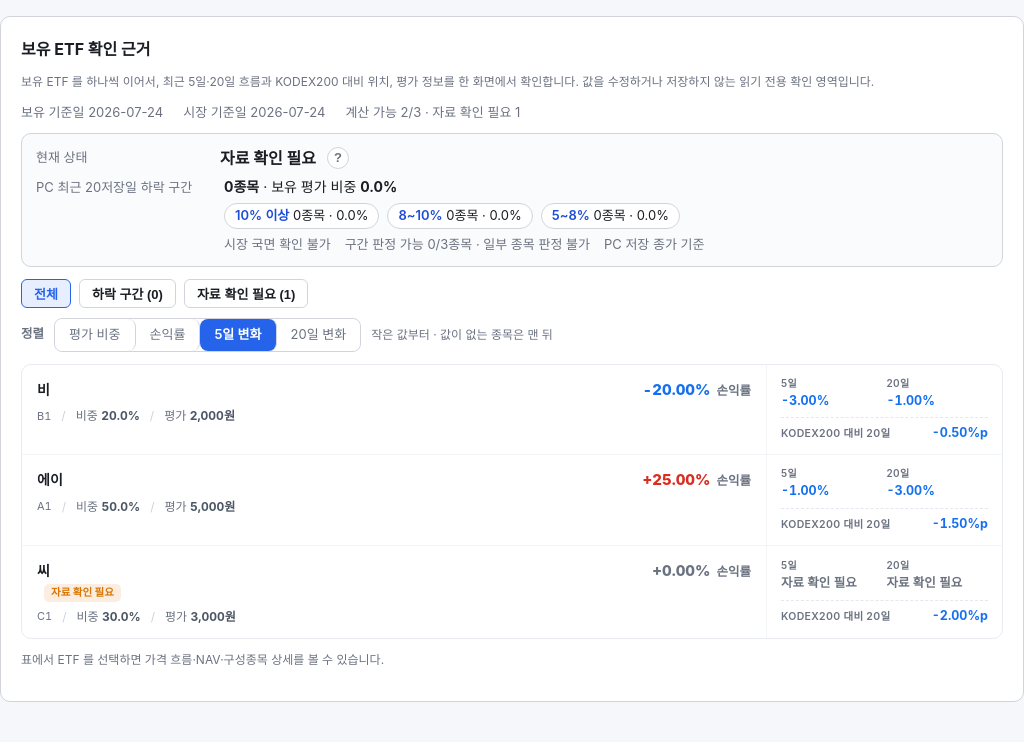
확인 근거 — 사용자 선택 정렬 · 자료 확인 안내 · 전체 ETF NAV 이동 (POC5-UI-02) › 선택 종목의 evidence_notes 를 그 종목 상세에만 보인다(다른 종목 사유 섞임 없음)
Click the button with aria-label "에이 상세 보기": {"x": 677, "y": 480} x1=22 y1=455 x2=1002 y2=546
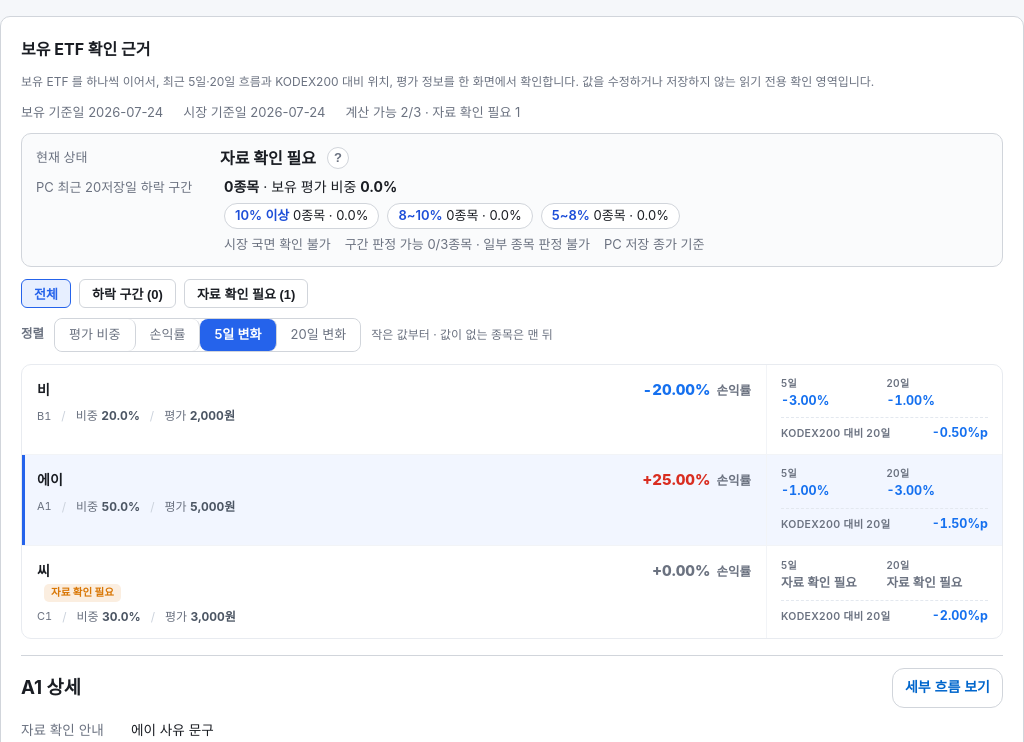
Click the button with aria-label "씨 상세 보기": {"x": 82, "y": 593} x1=22 y1=546 x2=1002 y2=638
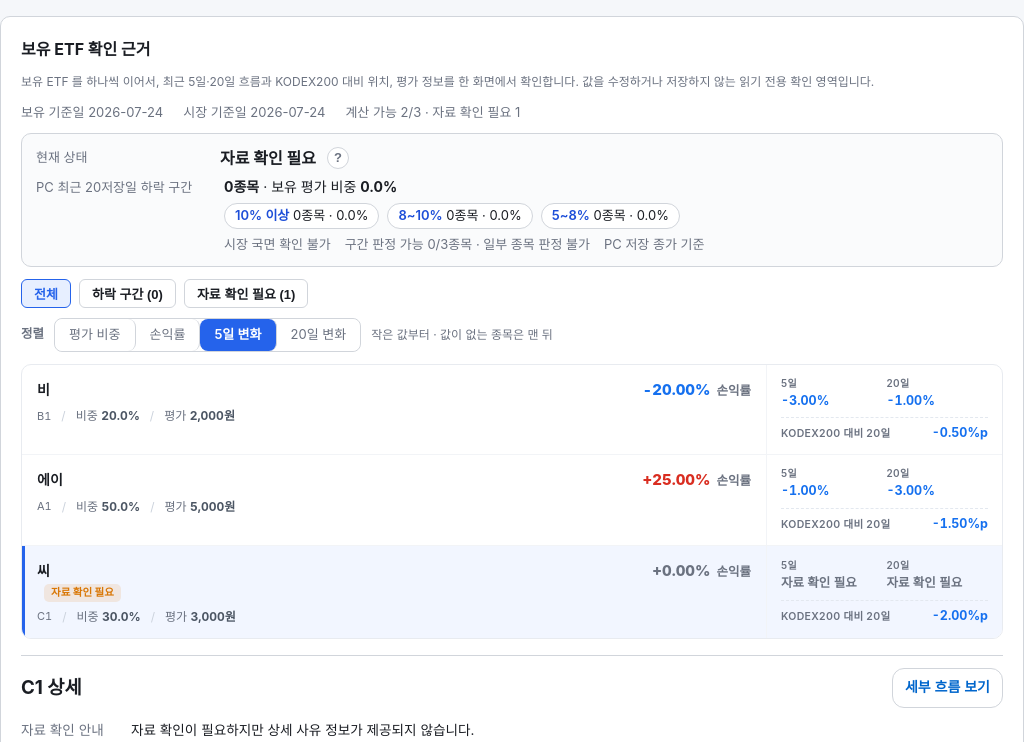
Check: the element with test id "hre-guidance" no longer shows "에이 사유 문구"
